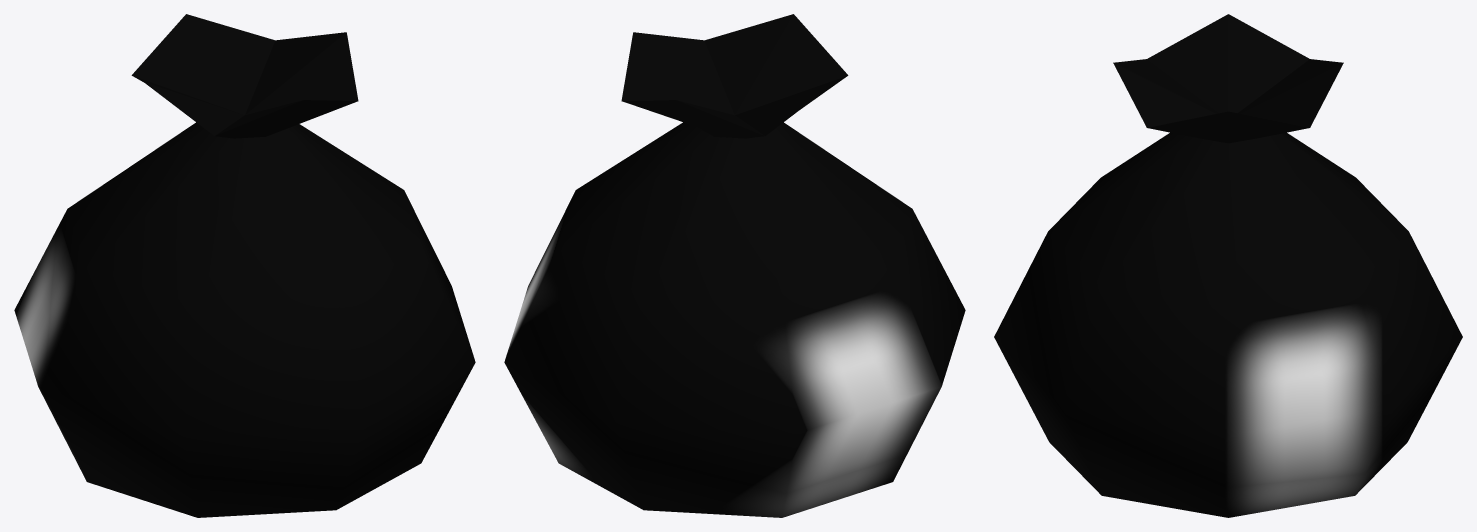
The model's file is Boss_Bullet.fbx.
3 renders of one model, left to right at view 1: azimuth 30°, elevation 25°; view 2: azimuth 150°, elevation 25°; view 3: azimuth 270°, elevation 25°, orthographic.
Visible parts, largest first — view 1: Boss_Bullet; view 2: Boss_Bullet; view 3: Boss_Bullet.
Part boxes in pixels (left/top/right/bottom): Boss_Bullet: left=14, top=14, right=475, bottom=517; Boss_Bullet: left=504, top=14, right=965, bottom=517; Boss_Bullet: left=994, top=14, right=1462, bottom=517.
Bounding box in the file's own units: 166 × 166 × 168.
